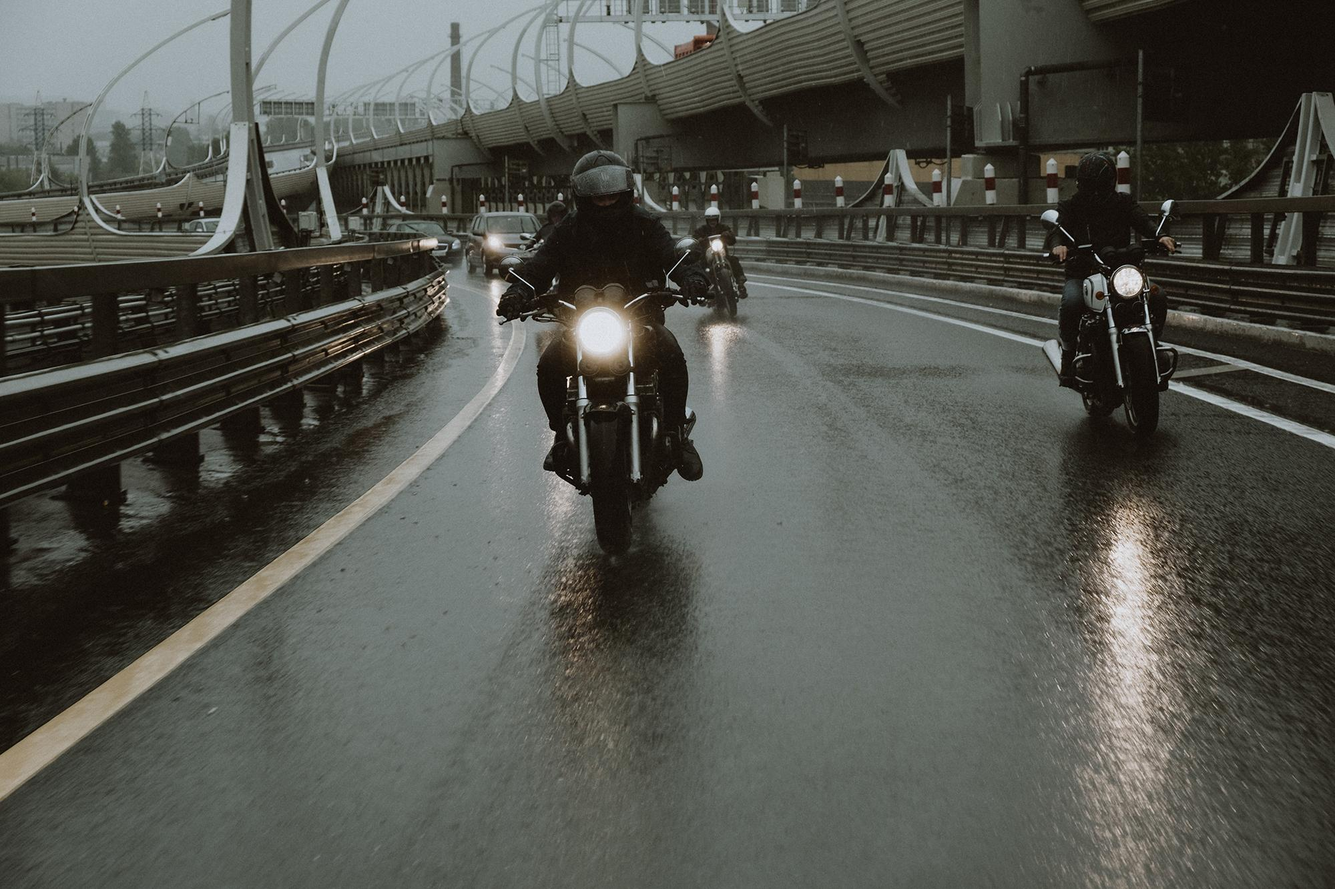helmet: (569, 149, 635, 236), (1075, 151, 1119, 209), (705, 206, 722, 231)
